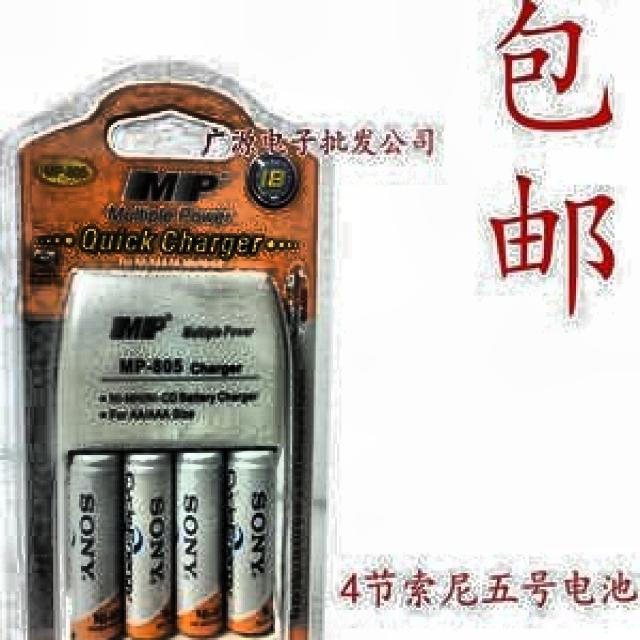Non-Valuable Waste - Batteries: (69, 454, 122, 638), (124, 452, 174, 638), (175, 451, 224, 636), (226, 451, 275, 633)
